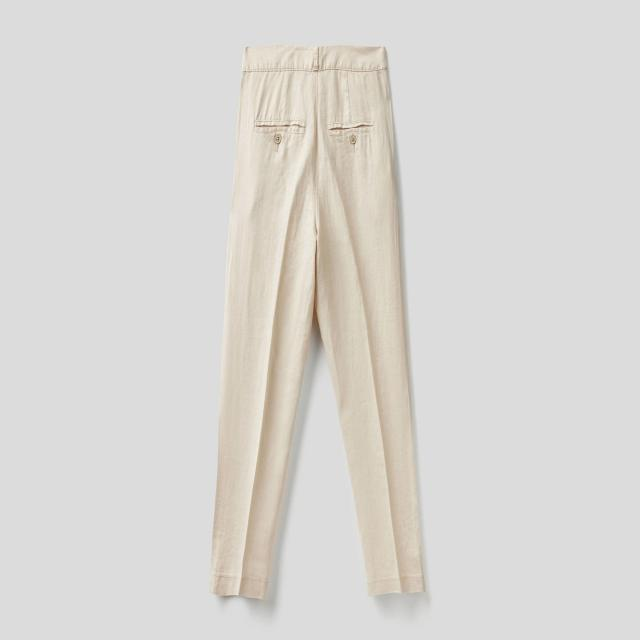long-pants: (207, 45, 430, 608)
